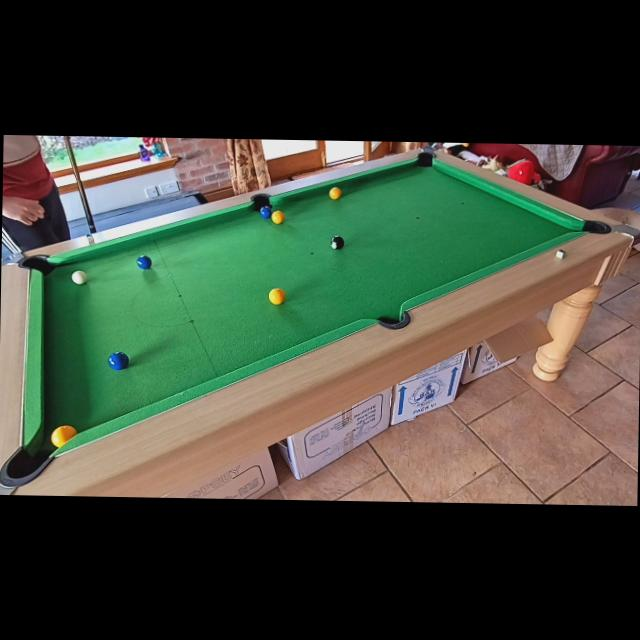Ball: (51, 425, 78, 448), (108, 352, 129, 369), (268, 288, 286, 304), (136, 255, 152, 269), (72, 270, 88, 284), (331, 236, 344, 250), (272, 210, 284, 224), (258, 206, 272, 218), (329, 187, 341, 200)
